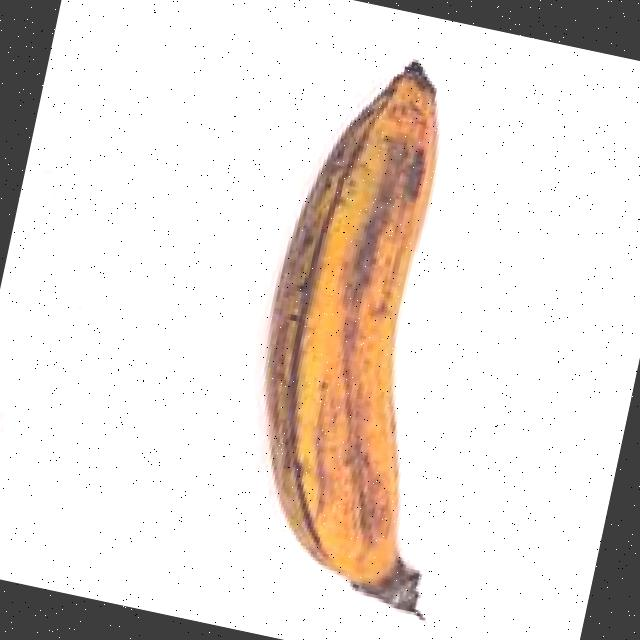Overripe: (175, 5, 621, 640)
